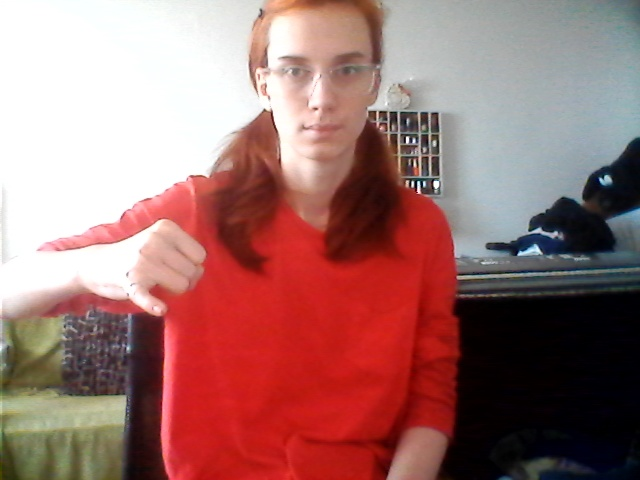j: (95, 205, 245, 324)
